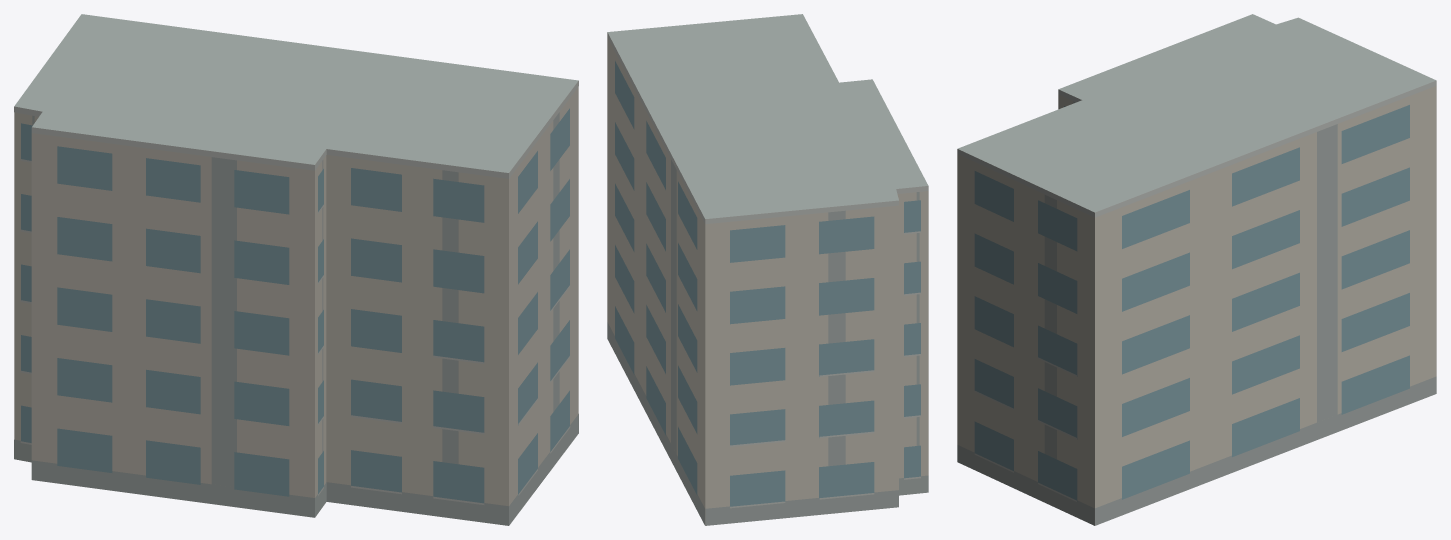
The model's file is survey-upis-32532469.glb.
The picture shows the model from 3 angles, left to right: view 1: azimuth 30°, elevation 25°; view 2: azimuth 150°, elevation 25°; view 3: azimuth 270°, elevation 25°; orthographic projection. The views are drawn at different scales.
Visible parts, largest first — view 1: survey-upis-32532469.tmp; view 2: survey-upis-32532469.tmp; view 3: survey-upis-32532469.tmp.
Boxes of the visible parts, bbox=[...] form: survey-upis-32532469.tmp: bbox=[14, 14, 578, 525]; survey-upis-32532469.tmp: bbox=[607, 14, 928, 525]; survey-upis-32532469.tmp: bbox=[957, 14, 1436, 525].
Bounding box in the file's own units: 19.99 × 14.7 × 20.39.
